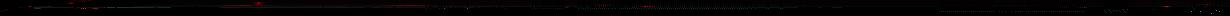Blue cone: (28, 6, 33, 7)
Yellow cone: (252, 2, 265, 6)
